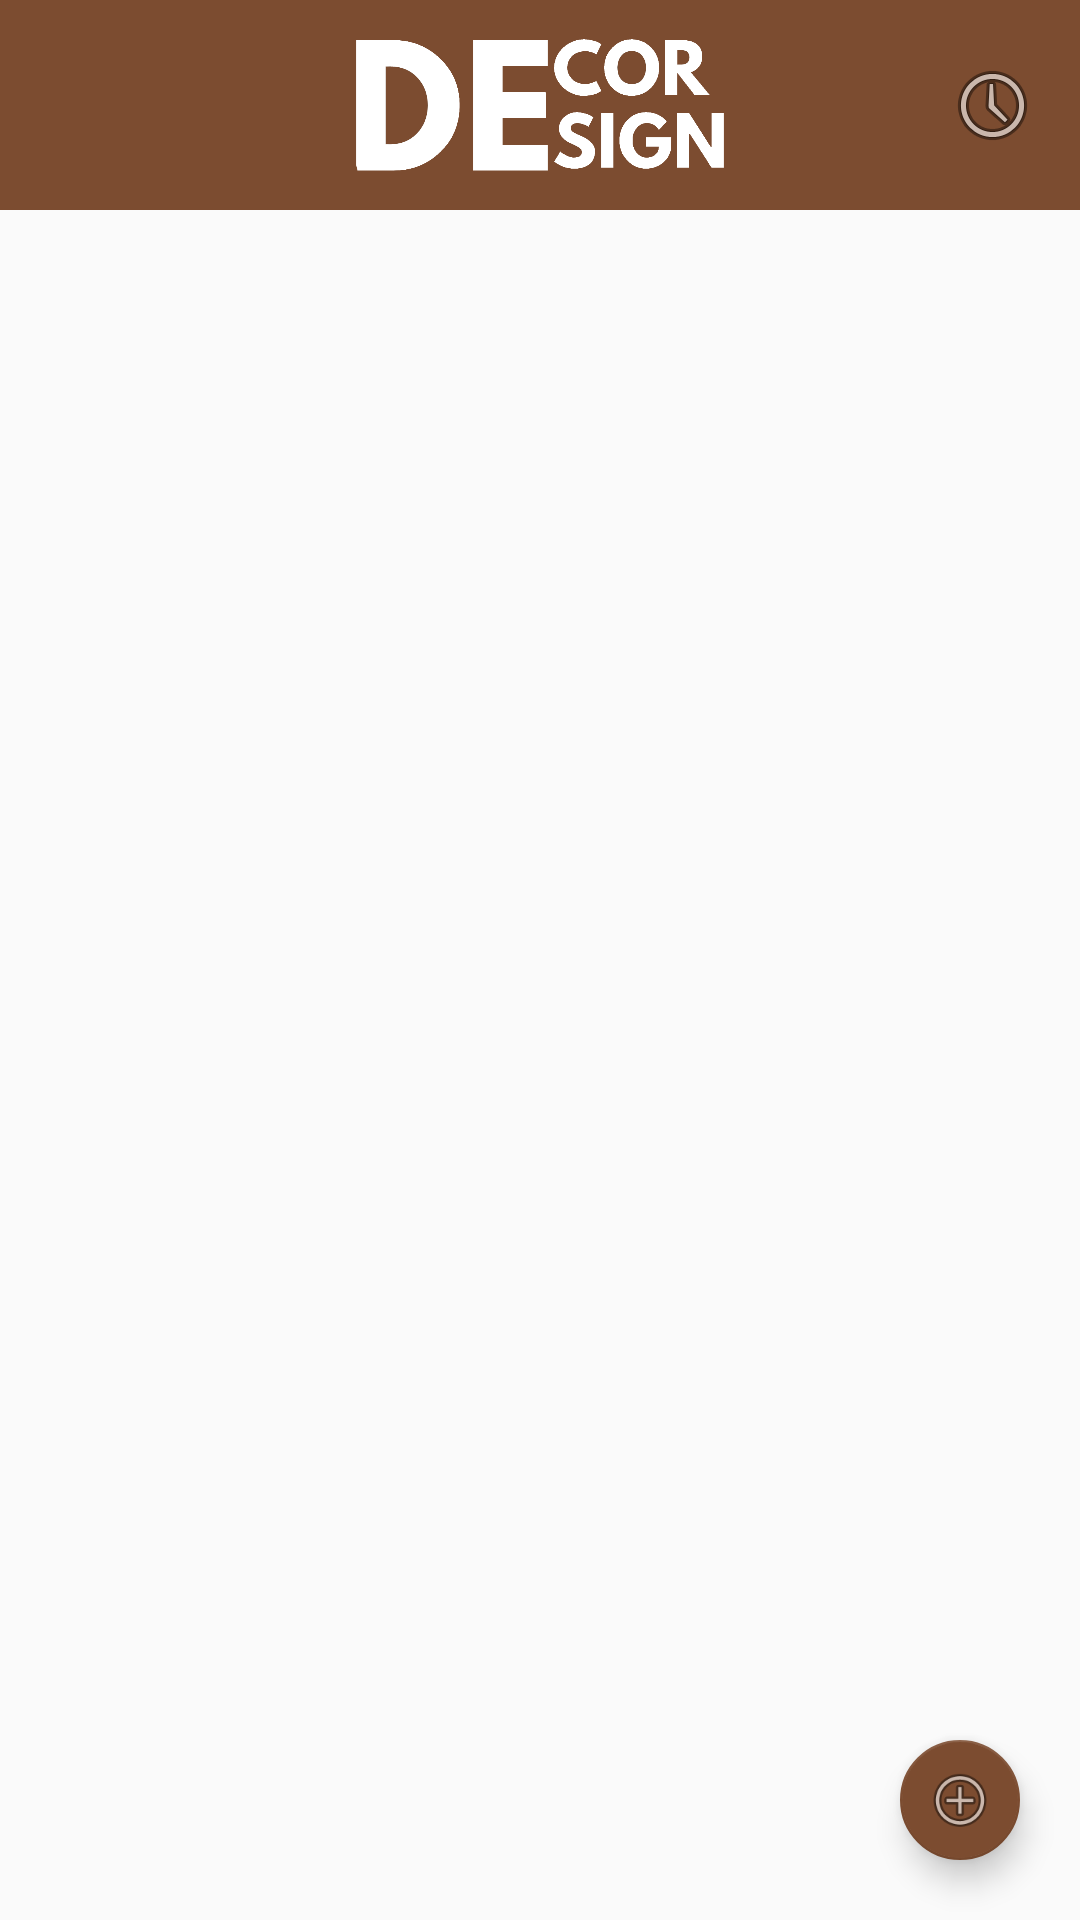

Icon click points for this 1080x1920 phone screenshot, format (x=x, y=y):
add: (x=960, y=1800)
